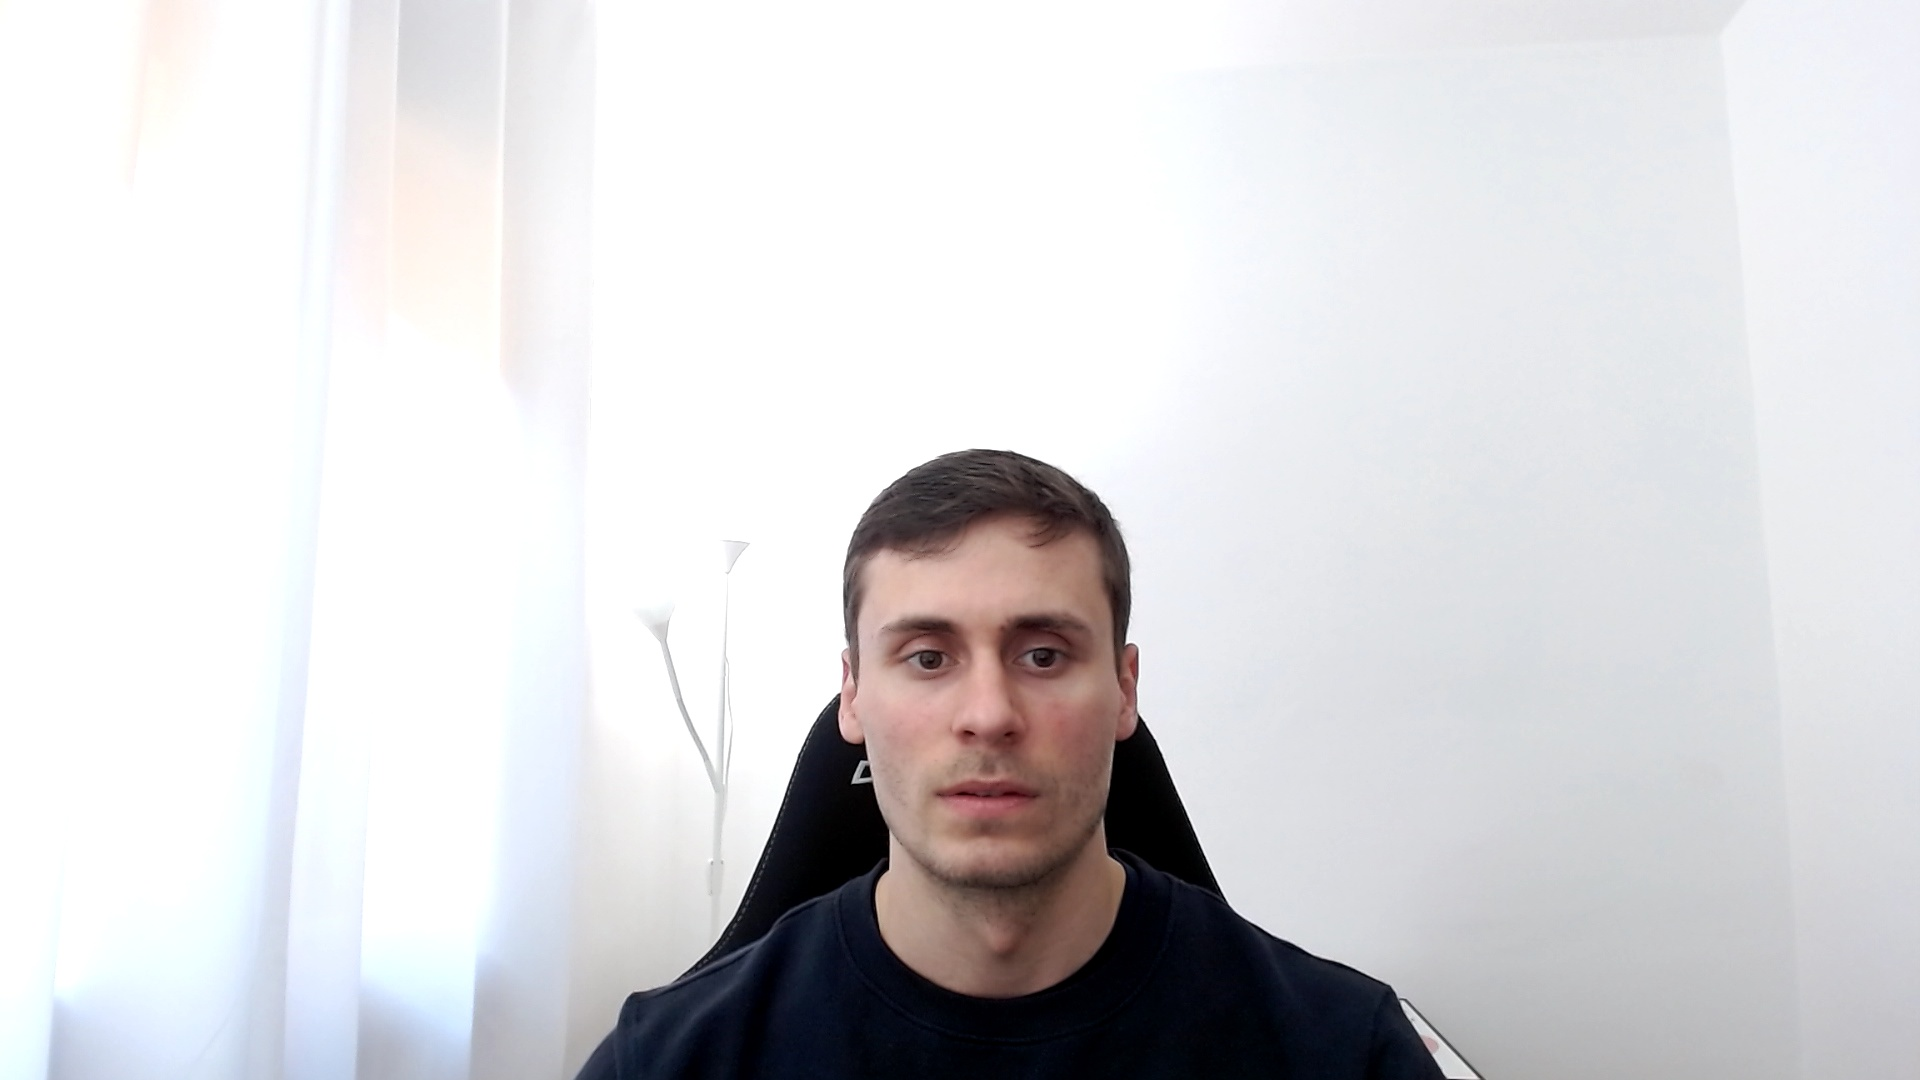No-mask: (841, 449, 1139, 884)
